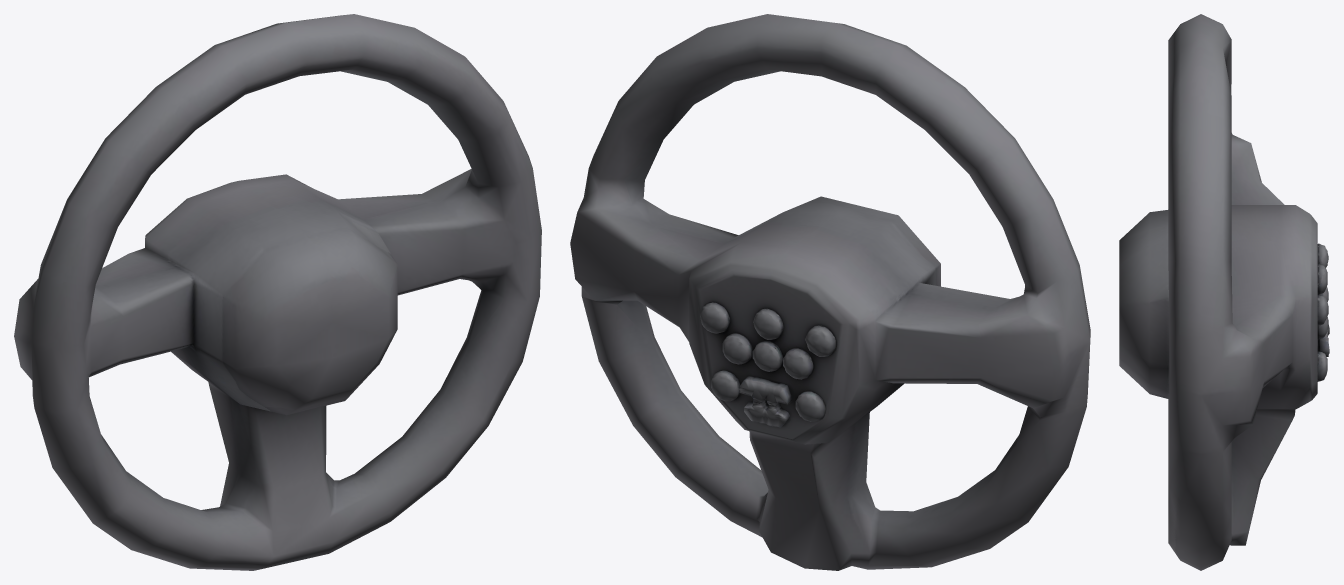
Rendered from selected.glb.
3 renders of one model, left to right at view 1: azimuth 30°, elevation 25°; view 2: azimuth 150°, elevation 25°; view 3: azimuth 270°, elevation 25°, orthographic. The views are drawn at different scales.
Visible parts, largest first — view 1: tripo_node_8ffc142a-f331-4a4a-8db8-b94c8baf6494; view 2: tripo_node_8ffc142a-f331-4a4a-8db8-b94c8baf6494; view 3: tripo_node_8ffc142a-f331-4a4a-8db8-b94c8baf6494.
Boxes of the visible parts, x1,y1,x2,y2 form: tripo_node_8ffc142a-f331-4a4a-8db8-b94c8baf6494: (14, 14, 541, 570); tripo_node_8ffc142a-f331-4a4a-8db8-b94c8baf6494: (570, 14, 1090, 570); tripo_node_8ffc142a-f331-4a4a-8db8-b94c8baf6494: (1119, 14, 1329, 570).
Bounding box in the file's own units: 0.9824 × 0.998 × 0.377.
Materials: 1 (1 with a texture image).
